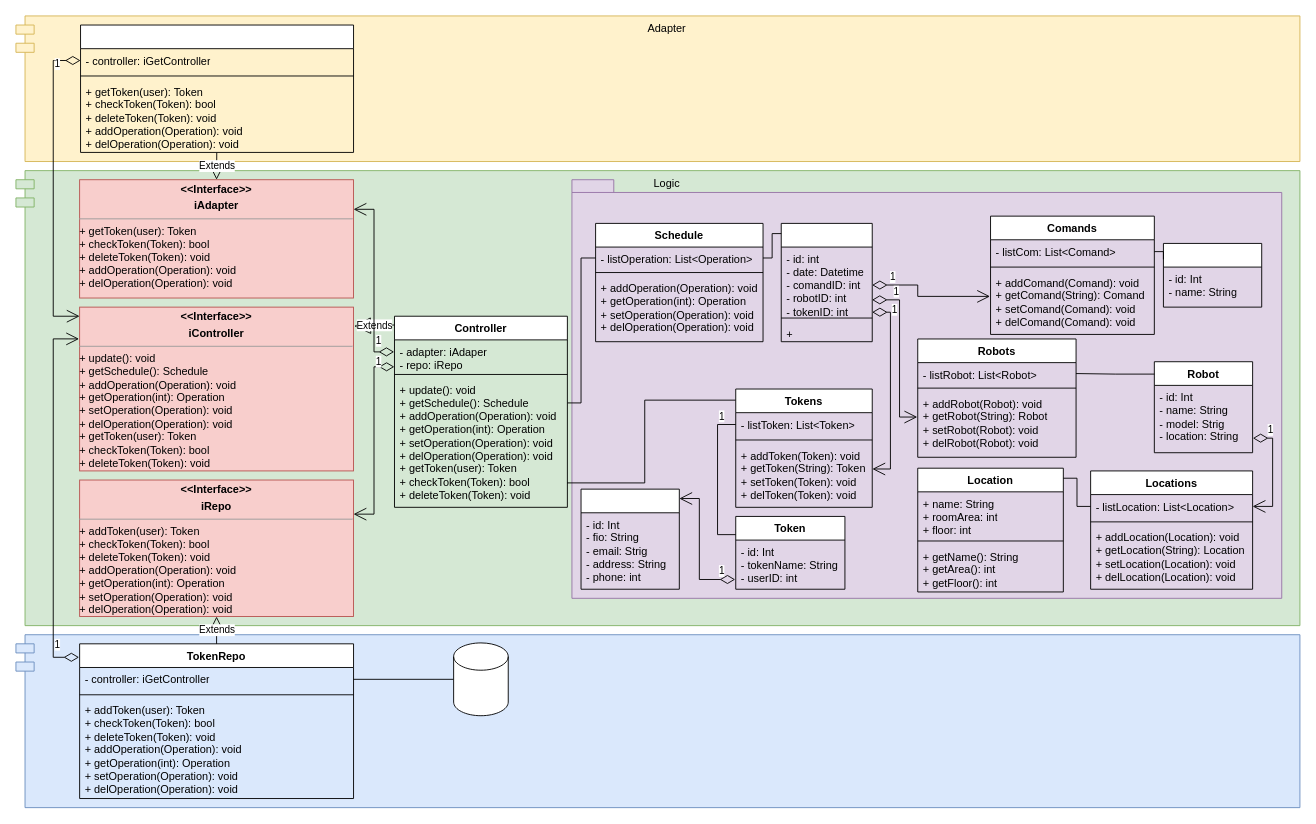
The diagram is 1316 pixels wide and 824 high, and some of its shapes have lost their labels. Each missing label, with the box of its shape:
Comand: (1163, 243, 1262, 307)
Data: (15, 634, 1300, 808)
DB: (453, 642, 508, 716)
Domains: (571, 179, 1282, 598)
Operation: (780, 222, 872, 342)
TokenAdapter: (80, 24, 354, 152)
User: (580, 488, 679, 589)
